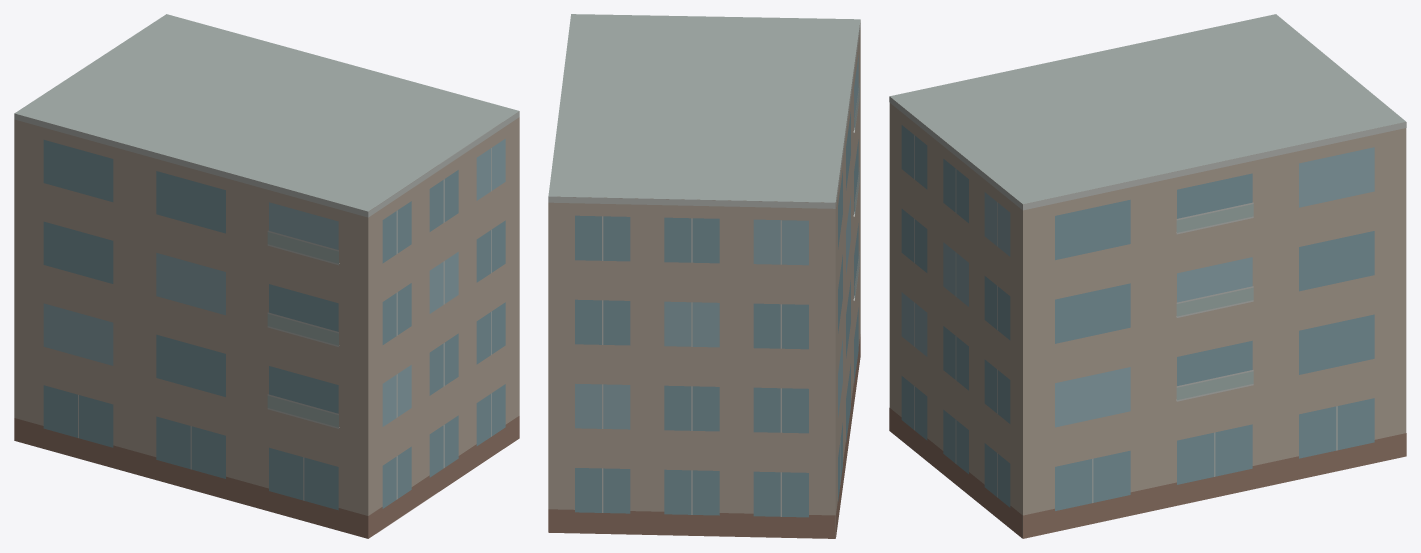
File: survey-upis-32837296.glb
3 views of the same model, side by side, from view 1: azimuth 30°, elevation 25°; view 2: azimuth 150°, elevation 25°; view 3: azimuth 270°, elevation 25° (orthographic). The views are drawn at different scales.
Visible parts, largest first — view 1: survey-upis-32837296.tmp; view 2: survey-upis-32837296.tmp; view 3: survey-upis-32837296.tmp.
Part boxes in pixels (left/top/right/bottom): survey-upis-32837296.tmp: left=14, top=14, right=519, bottom=538; survey-upis-32837296.tmp: left=548, top=14, right=860, bottom=538; survey-upis-32837296.tmp: left=889, top=14, right=1406, bottom=538.
Bounding box in the file's own units: 16.21 × 13.28 × 18.61.
